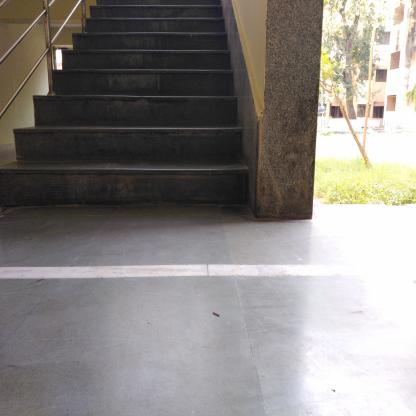stairs: (91, 4, 224, 214)
